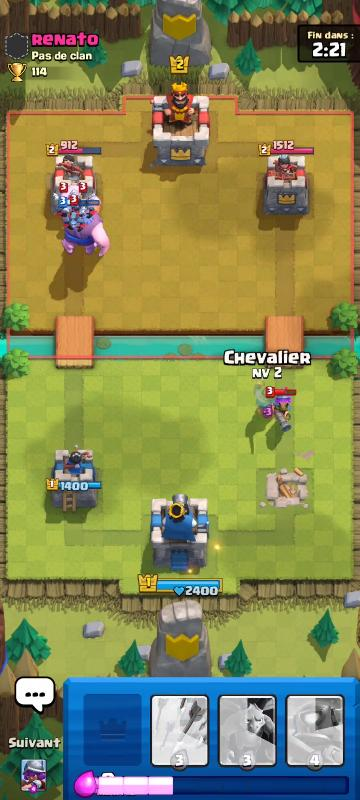gargouille: (59, 204, 96, 231), (51, 188, 75, 221), (79, 186, 100, 217), (68, 213, 83, 234)
geant: (57, 212, 108, 260)
